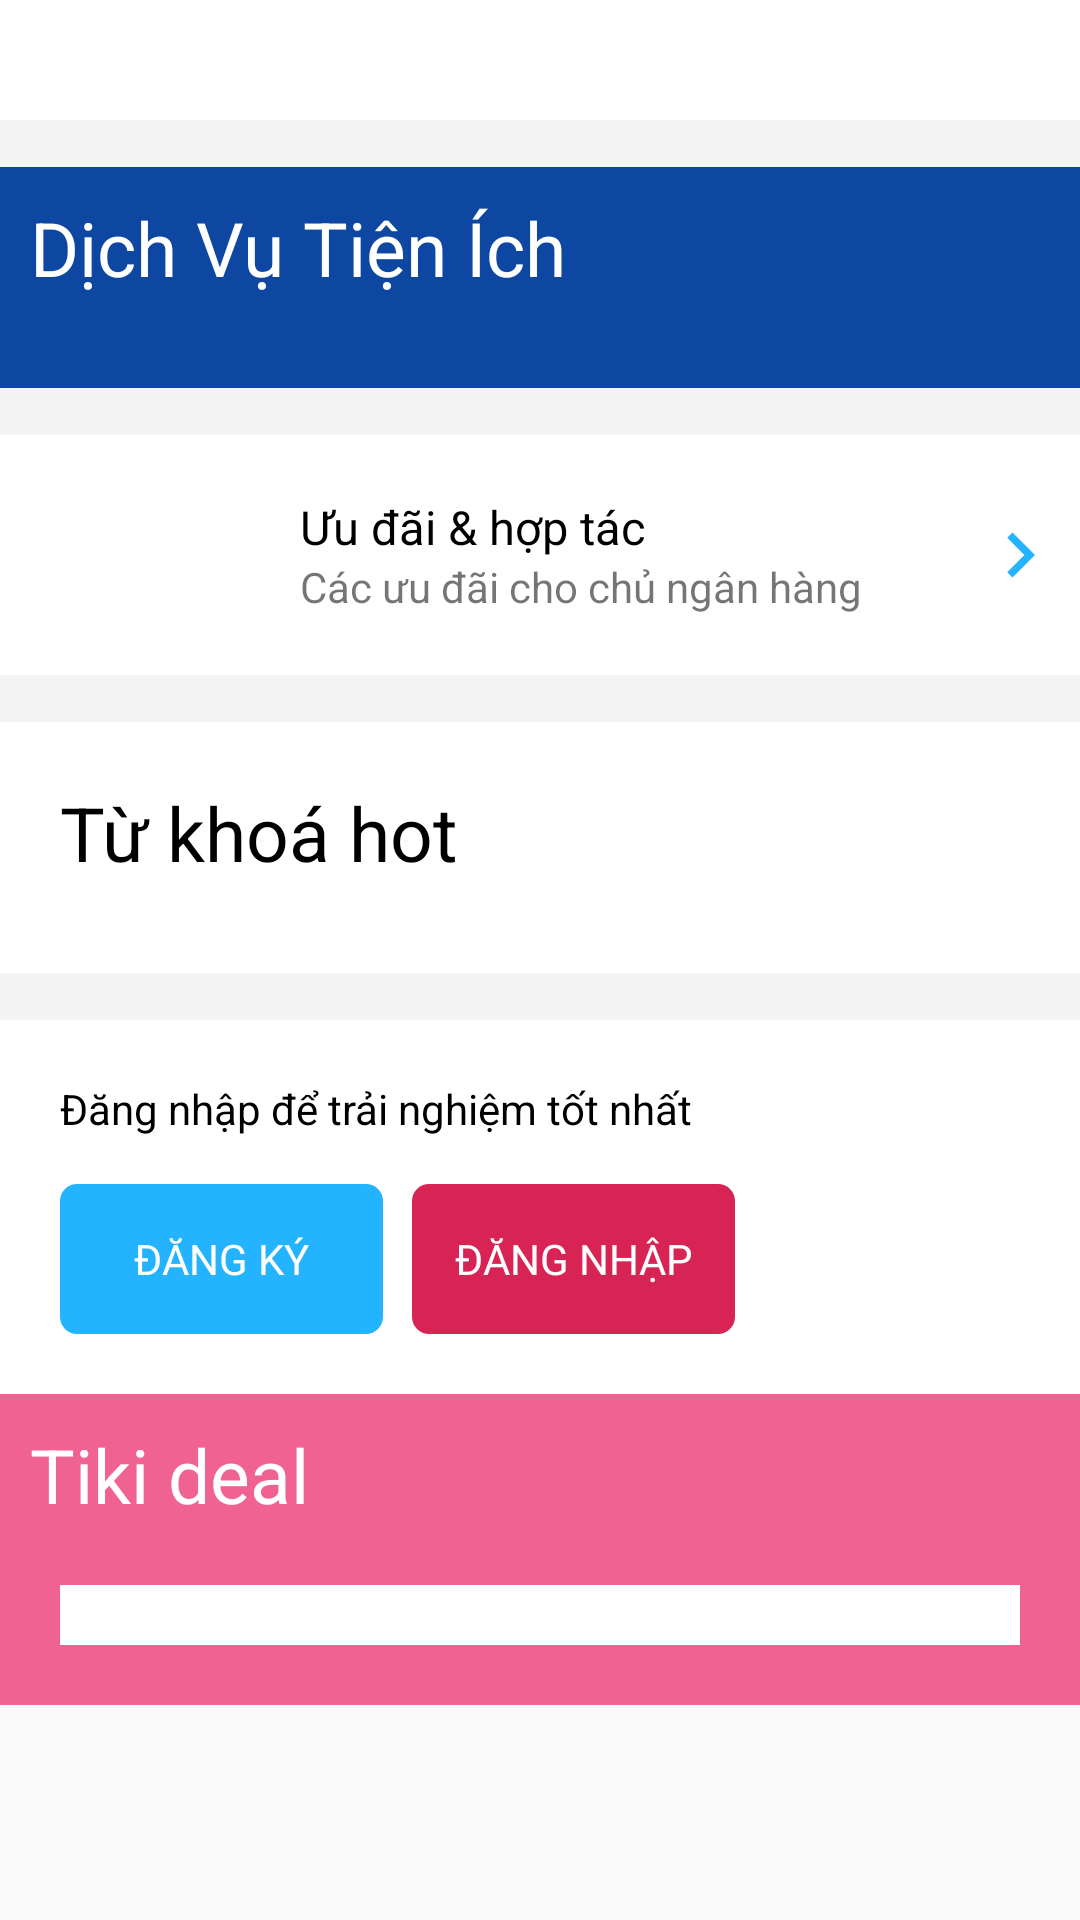

Icons on this 1080*1920 Android screen, each with the point to tap as (x=x, y=y):
chevron right: (x=1021, y=555)
